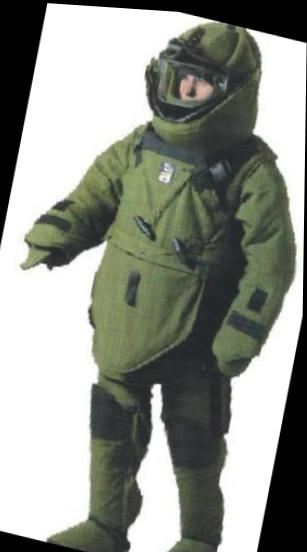WRONG: (168, 60, 230, 124)
